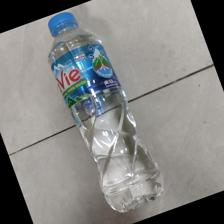Lavie: (46, 9, 165, 216)
